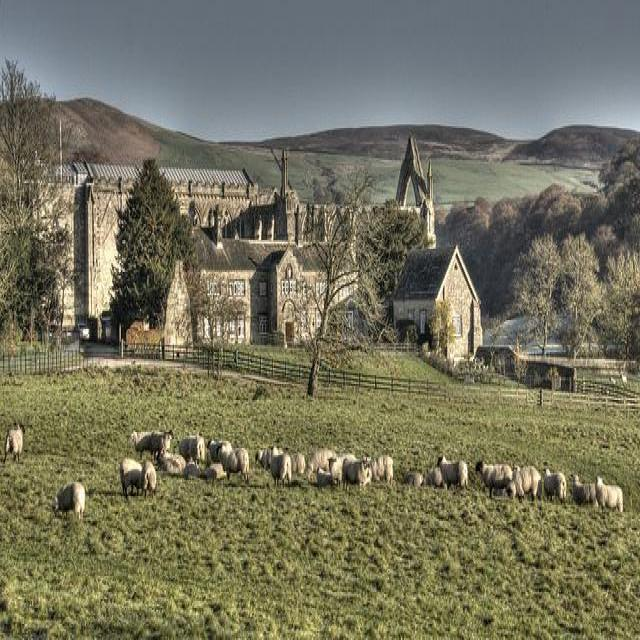Sheep: (1, 420, 571, 512)
